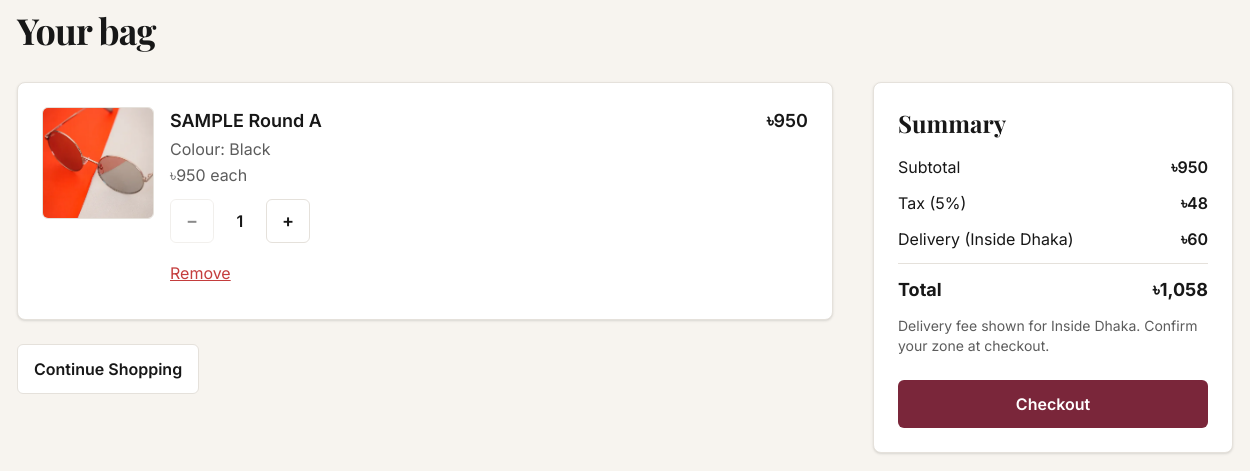
Test: Bag page › renders a line item with stepper and remove, and + increases qty
Expected: the text "Colour: Black" is shown, [170,139,271,159]
Expected: the text "৳950 each" is shown, [170,165,247,185]
Click the button named "Increase quantity of SAMPLE Round A". click: (288,221)
box: [266,199,310,243]
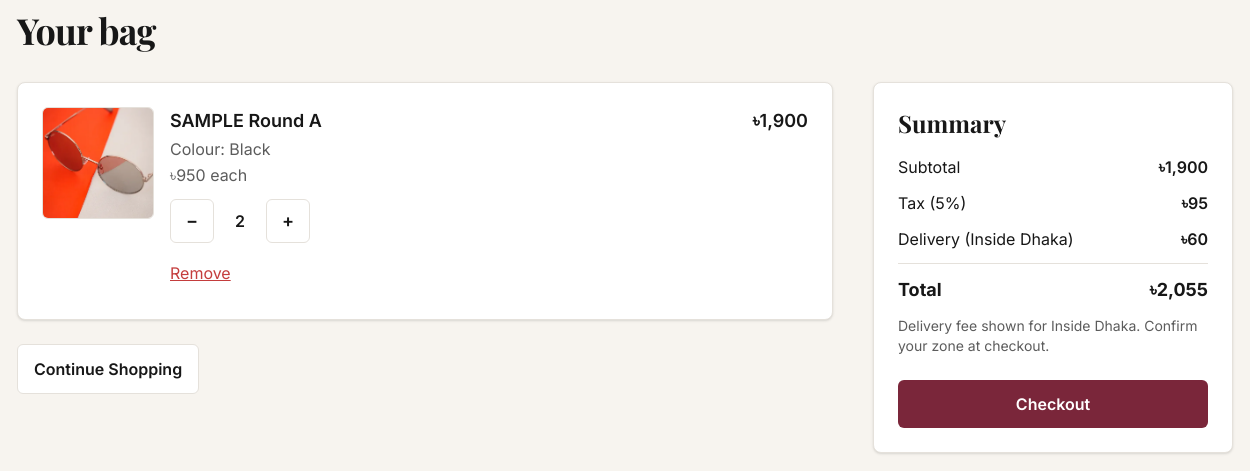
Expected: the text "৳1,900" is shown 2 times, [753,110,808,131]; [1159,155,1208,179]
Now the element named "Quantity of SAMPLE Round A" shows "2", box [235,211,245,231]
